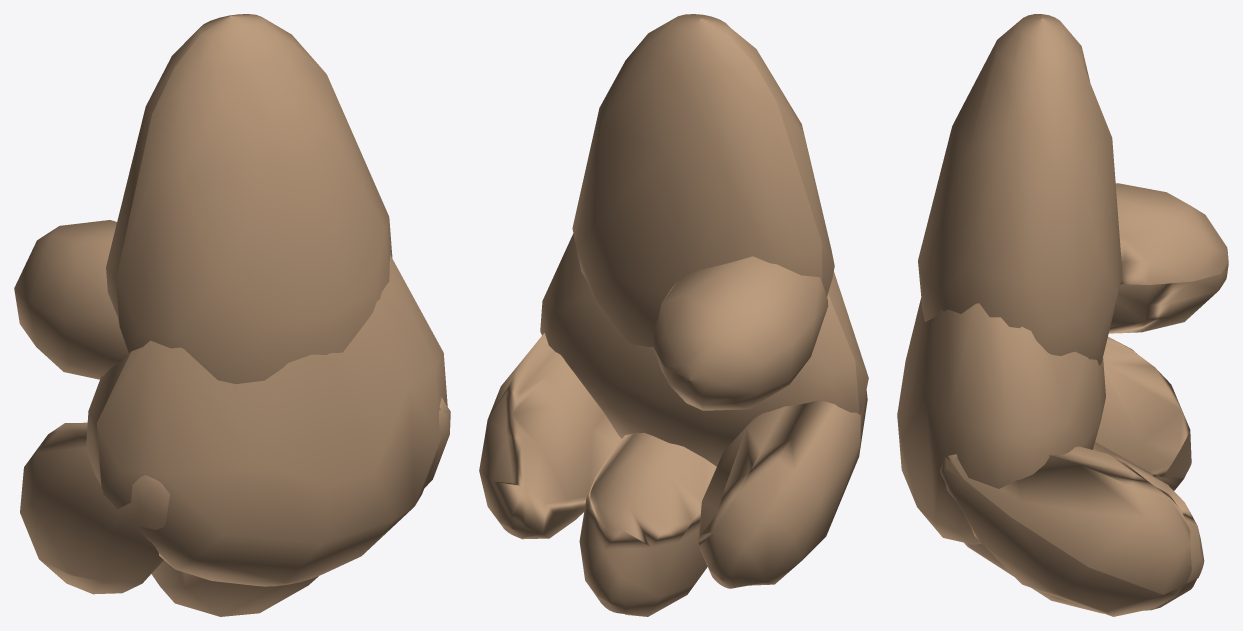
The model's file is hand_feline_optimized60.glb.
3 renders of one model, left to right at view 1: azimuth 30°, elevation 25°; view 2: azimuth 150°, elevation 25°; view 3: azimuth 270°, elevation 25°, orthographic. The views are drawn at different scales.
Visible parts, largest first — view 1: CombinedMesh_MaterialSlots; view 2: CombinedMesh_MaterialSlots; view 3: CombinedMesh_MaterialSlots.
Boxes of the visible parts, x1=… form: CombinedMesh_MaterialSlots: x1=14, y1=14, x2=450, y2=616; CombinedMesh_MaterialSlots: x1=479, y1=14, x2=868, y2=616; CombinedMesh_MaterialSlots: x1=897, y1=14, x2=1228, y2=616.
Size of the model in its own units: 1.88 by 3.06 by 1.58.
